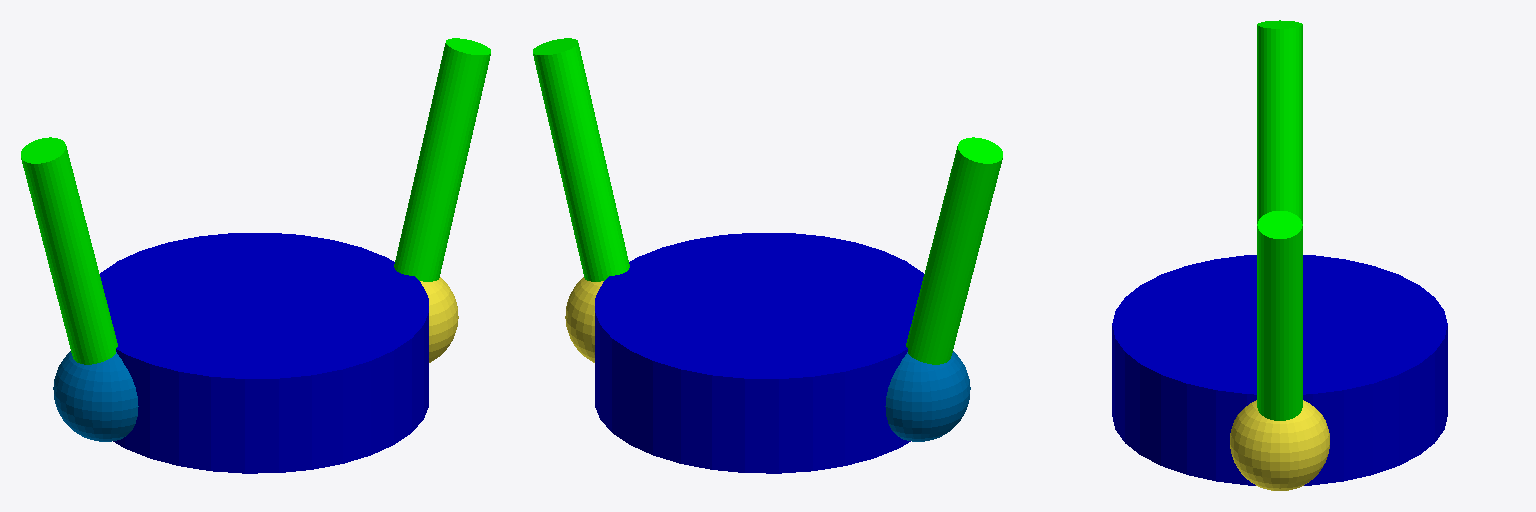
The robot description file, URDF, robot "gripper_2f_1j":
<?xml version='1.0' encoding='UTF-8'?>
<robot name="gripper_2f_1j">
  <link name="palm">
    <inertial>
      <origin xyz="0.0 0.0 0.0" rpy="0.0 -0.0 0.0"/>
      <mass value="1.0"/>
      <inertia ixx="1.0" ixy="0.0" ixz="0.0" iyy="1.0" iyz="0.0" izz="1.0"/>
    </inertial>
    <visual>
      <geometry>
        <cylinder radius="0.05" length="0.03"/>
      </geometry>
      <material name="blue"/>
      <origin xyz="0.0 0.0 0.0" rpy="0.0 -0.0 0.0"/>
    </visual>
    <collision>
      <geometry>
        <cylinder radius="0.05" length="0.03"/>
      </geometry>
      <origin xyz="0.0 0.0 0.0" rpy="0.0 0.0 0.0"/>
    </collision>
  </link>
  <link name="f11">
    <inertial>
      <origin xyz="0.0 0.0 0.0" rpy="0.0 -0.0 0.0"/>
      <mass value="1.0"/>
      <inertia ixx="1.0" ixy="0.0" ixz="0.0" iyy="1.0" iyz="0.0" izz="1.0"/>
    </inertial>
    <visual>
      <geometry>
        <cylinder radius="0.006750553592980558" length="0.08328211028707128"/>
      </geometry>
      <material name="green"/>
      <origin xyz="0.0 0.0 0.04164105514353564" rpy="0.0 -0.0 0.0"/>
    </visual>
    <collision>
      <geometry>
        <cylinder radius="0.006750553592980558" length="0.08328211028707128"/>
      </geometry>
      <origin xyz="0.0 0.0 0.05" rpy="0.0 0.0 0.0"/>
    </collision>
  </link>
  <link name="f21">
    <inertial>
      <origin xyz="0.0 0.0 0.0" rpy="0.0 -0.0 0.0"/>
      <mass value="1.0"/>
      <inertia ixx="1.0" ixy="0.0" ixz="0.0" iyy="1.0" iyz="0.0" izz="1.0"/>
    </inertial>
    <visual>
      <geometry>
        <cylinder radius="0.006750553592980558" length="0.08328211028707128"/>
      </geometry>
      <material name="green"/>
      <origin xyz="0.0 0.0 0.04164105514353564" rpy="0.0 -0.0 0.0"/>
    </visual>
    <collision>
      <geometry>
        <cylinder radius="0.006750553592980558" length="0.08328211028707128"/>
      </geometry>
      <origin xyz="0.0 0.0 0.05" rpy="0.0 0.0 0.0"/>
    </collision>
  </link>
  <link name="f11_base">
    <inertial>
      <origin xyz="0.0 0.0 0.0" rpy="0.0 -0.0 0.0"/>
      <mass value="1.0"/>
      <inertia ixx="1.0" ixy="0.0" ixz="0.0" iyy="1.0" iyz="0.0" izz="1.0"/>
    </inertial>
    <visual>
      <geometry>
        <sphere radius="0.015"/>
      </geometry>
      <origin xyz="0.0 0.0 0.0" rpy="0.0 -0.0 0.0"/>
    </visual>
  </link>
  <link name="f21_base">
    <inertial>
      <origin xyz="0.0 0.0 0.0" rpy="0.0 -0.0 0.0"/>
      <mass value="1.0"/>
      <inertia ixx="1.0" ixy="0.0" ixz="0.0" iyy="1.0" iyz="0.0" izz="1.0"/>
    </inertial>
    <visual>
      <geometry>
        <sphere radius="0.015"/>
      </geometry>
      <origin xyz="0.0 0.0 0.0" rpy="0.0 -0.0 0.0"/>
    </visual>
  </link>
  <joint name="f11_joint" type="revolute">
    <dynamics damping="100.0" friction="1.0"/>
    <limit effort="30.0" velocity="2.0" lower="-0.6" upper="0.25"/>
    <parent link="f11_base"/>
    <child link="f11"/>
    <axis xyz="0. 1. 0."/>
    <origin xyz="0.0 0.0 0.0" rpy="0.0 0.25 0.0"/>
  </joint>
  <joint name="f21_joint" type="revolute">
    <dynamics damping="100.0" friction="1.0"/>
    <limit effort="30.0" velocity="2.0" lower="-0.6" upper="0.25"/>
    <parent link="f21_base"/>
    <child link="f21"/>
    <axis xyz=" 0. -1.  0."/>
    <origin xyz="0.0 0.0 0.0" rpy="0.0 -0.25 0.0"/>
  </joint>
  <joint name="f11_base_joint" type="fixed">
    <parent link="palm"/>
    <child link="f11_base"/>
    <axis xyz="1. 0. 0."/>
    <origin xyz="0.05 0.0 0.0" rpy="0.0 0.0 0.0"/>
  </joint>
  <joint name="f21_base_joint" type="fixed">
    <parent link="palm"/>
    <child link="f21_base"/>
    <axis xyz="1. 0. 0."/>
    <origin xyz="-0.05 -0.0 0.0" rpy="0.0 0.0 0.0"/>
  </joint>
  <material name="blue">
    <color rgba="0.  0.  0.8 1. "/>
  </material>
  <material name="green">
    <color rgba="0. 1. 0. 1."/>
  </material>
</robot>

--- What the picture shows (computed from the rendered views, not written in the file) ---
The picture shows the robot from 3 angles, left to right: view 1: azimuth 30°, elevation 25°; view 2: azimuth 150°, elevation 25°; view 3: azimuth 270°, elevation 25°; orthographic projection.
Model gripper_2f_1j with 5 links and 4 joints (2 revolute, 2 fixed), rooted at palm, posed every joint at zero.
Links seen in each view (by area): view 1: palm, f11, f21, f21_base, f11_base; view 2: palm, f11, f21, f21_base, f11_base; view 3: palm, f11, f21, f11_base.
Boxes of the visible links, box(x1,y1,x2,y2) form: palm: box(100, 233, 428, 473); f11: box(394, 38, 490, 281); f21: box(21, 137, 117, 364); f21_base: box(53, 351, 138, 441); f11_base: box(420, 277, 458, 362); palm: box(595, 233, 923, 473); f11: box(533, 38, 629, 281); f21: box(906, 137, 1002, 364); f21_base: box(885, 351, 970, 441); f11_base: box(565, 277, 603, 362); palm: box(1112, 255, 1447, 485); f11: box(1257, 211, 1302, 420); f21: box(1257, 20, 1302, 223); f11_base: box(1230, 400, 1329, 490).
Size in the robot's own frame: 0.1543 by 0.1 by 0.0974 metres.
Geometry: primitives only (box / cylinder / sphere), no mesh files.